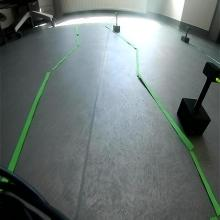green: (202, 60, 220, 84)
